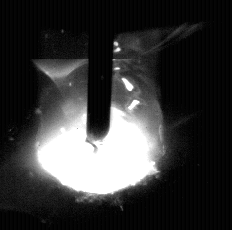arame: (87, 0, 112, 141)
poca: (36, 0, 165, 230)
